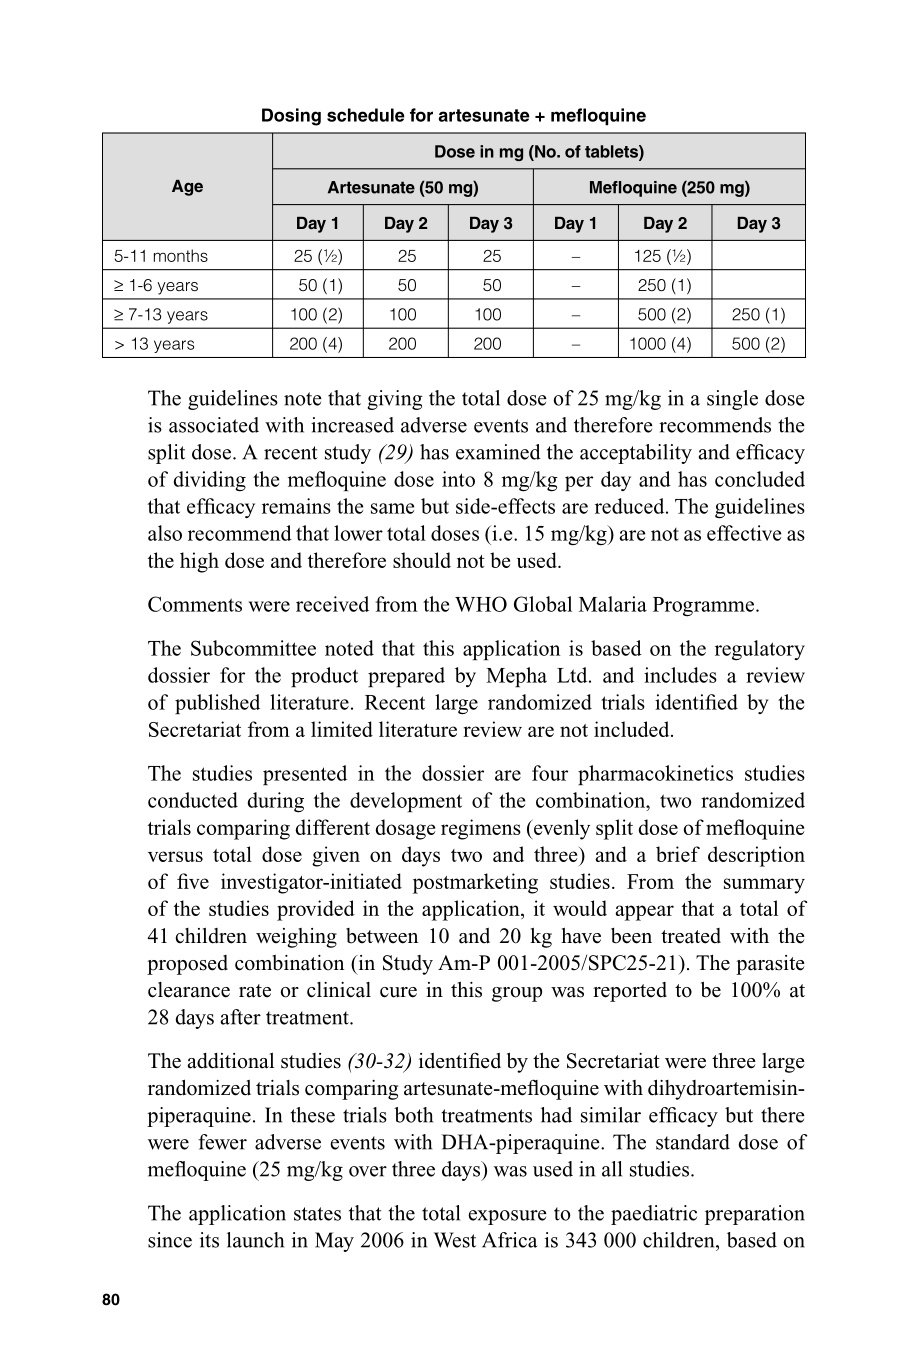merged_cells: (100, 130, 807, 359)
